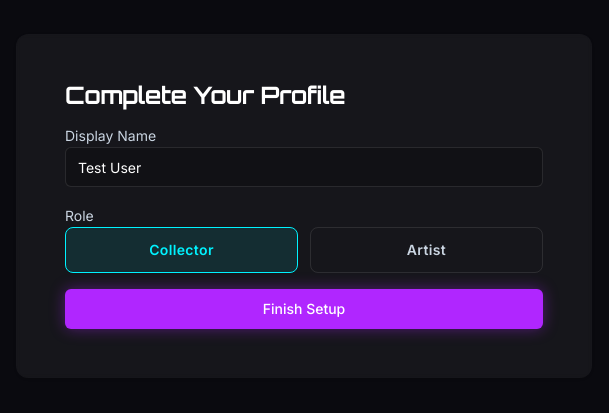
Scenario: OnboardingPage in Normal Mode › should show error message on failed submission
The width and height of the screenshot is (609, 413).
Expected: the field with placeholder "Your name" holds "Test User", [65,147,543,187]
Click the button "Finish Setup": (304, 309) [65,289,543,329]
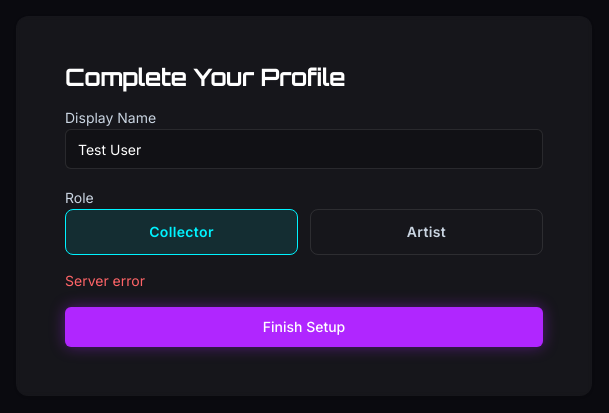
Expected: the text "Server error" is shown, [65,272,145,289]
